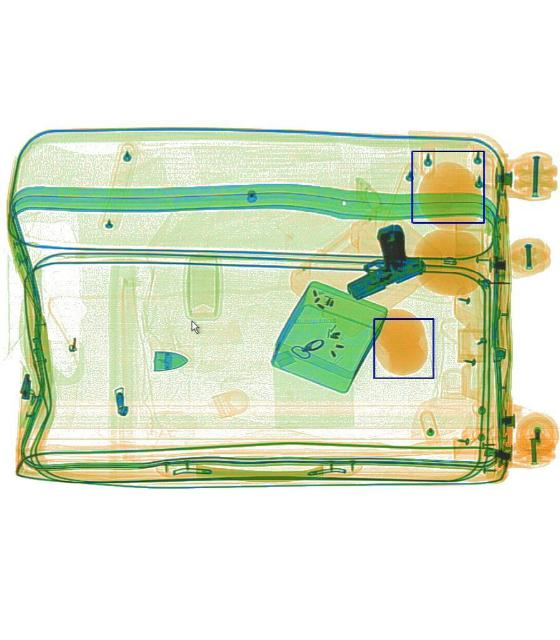Gun: (330, 217, 424, 303)
